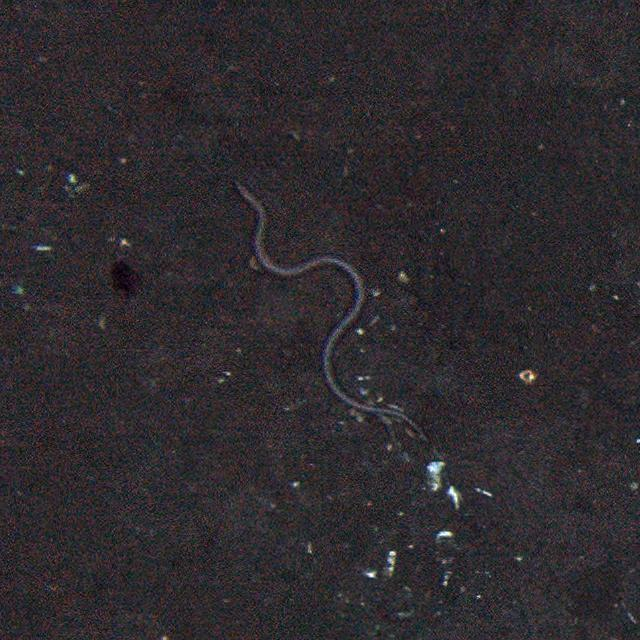eel: (231, 180, 428, 443)
